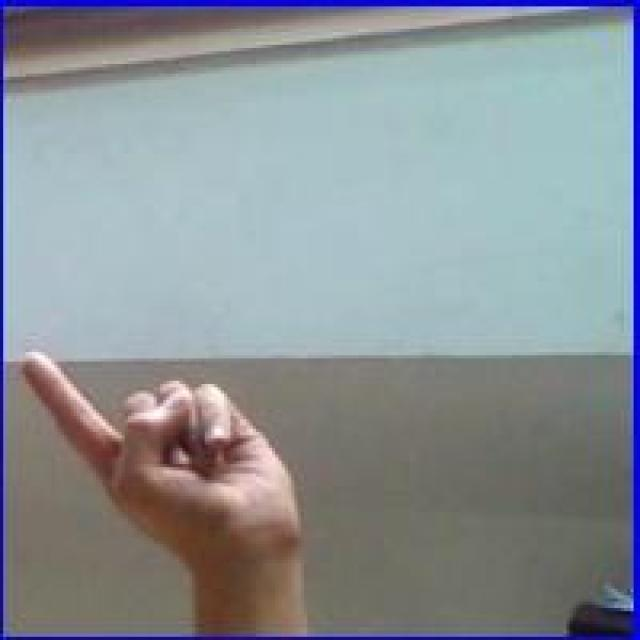Z: (16, 346, 314, 576)
